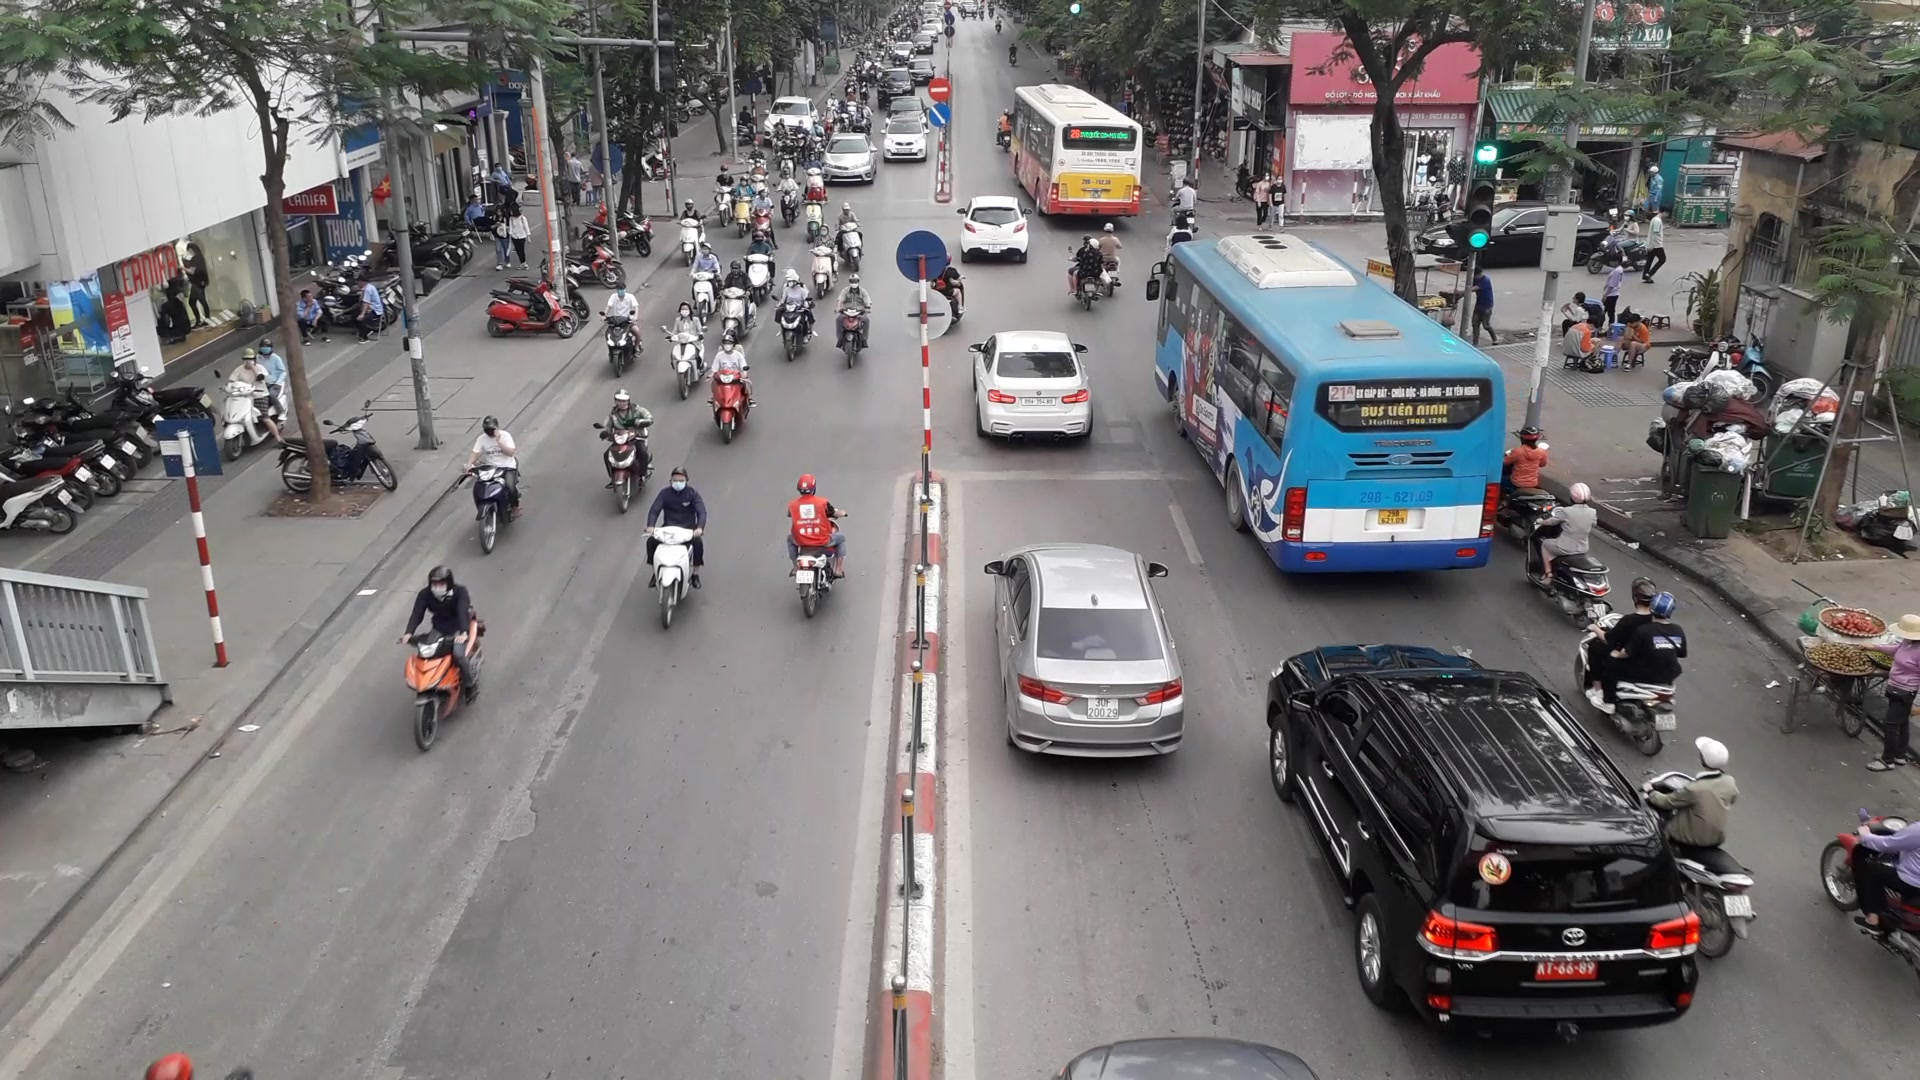bus: (1147, 233, 1509, 572), (1006, 83, 1145, 218)
car: (1267, 644, 1698, 1029), (985, 541, 1184, 758), (957, 195, 1033, 262), (818, 132, 877, 185), (761, 95, 820, 138), (880, 113, 930, 161), (874, 66, 916, 108), (884, 96, 928, 127)
motor: (1639, 735, 1756, 960), (1573, 576, 1687, 756), (1820, 808, 1920, 978), (396, 564, 487, 752), (968, 330, 1095, 438), (1524, 483, 1614, 628), (642, 465, 708, 629), (787, 473, 848, 618), (462, 415, 521, 553), (1499, 426, 1560, 551), (593, 388, 654, 513), (705, 334, 752, 443), (659, 301, 709, 400), (597, 282, 640, 378), (832, 273, 872, 368), (771, 273, 814, 361), (930, 251, 967, 338), (717, 258, 757, 336), (738, 229, 777, 307), (687, 243, 723, 326), (1065, 233, 1104, 310), (804, 222, 840, 299), (674, 198, 708, 266), (833, 200, 864, 272), (748, 186, 779, 251), (1097, 222, 1122, 301), (771, 169, 803, 228), (1168, 175, 1200, 233), (800, 182, 829, 243), (731, 174, 756, 237), (712, 164, 737, 225), (800, 152, 828, 194), (775, 135, 799, 179), (746, 157, 770, 194), (996, 108, 1011, 152), (745, 140, 767, 167)
